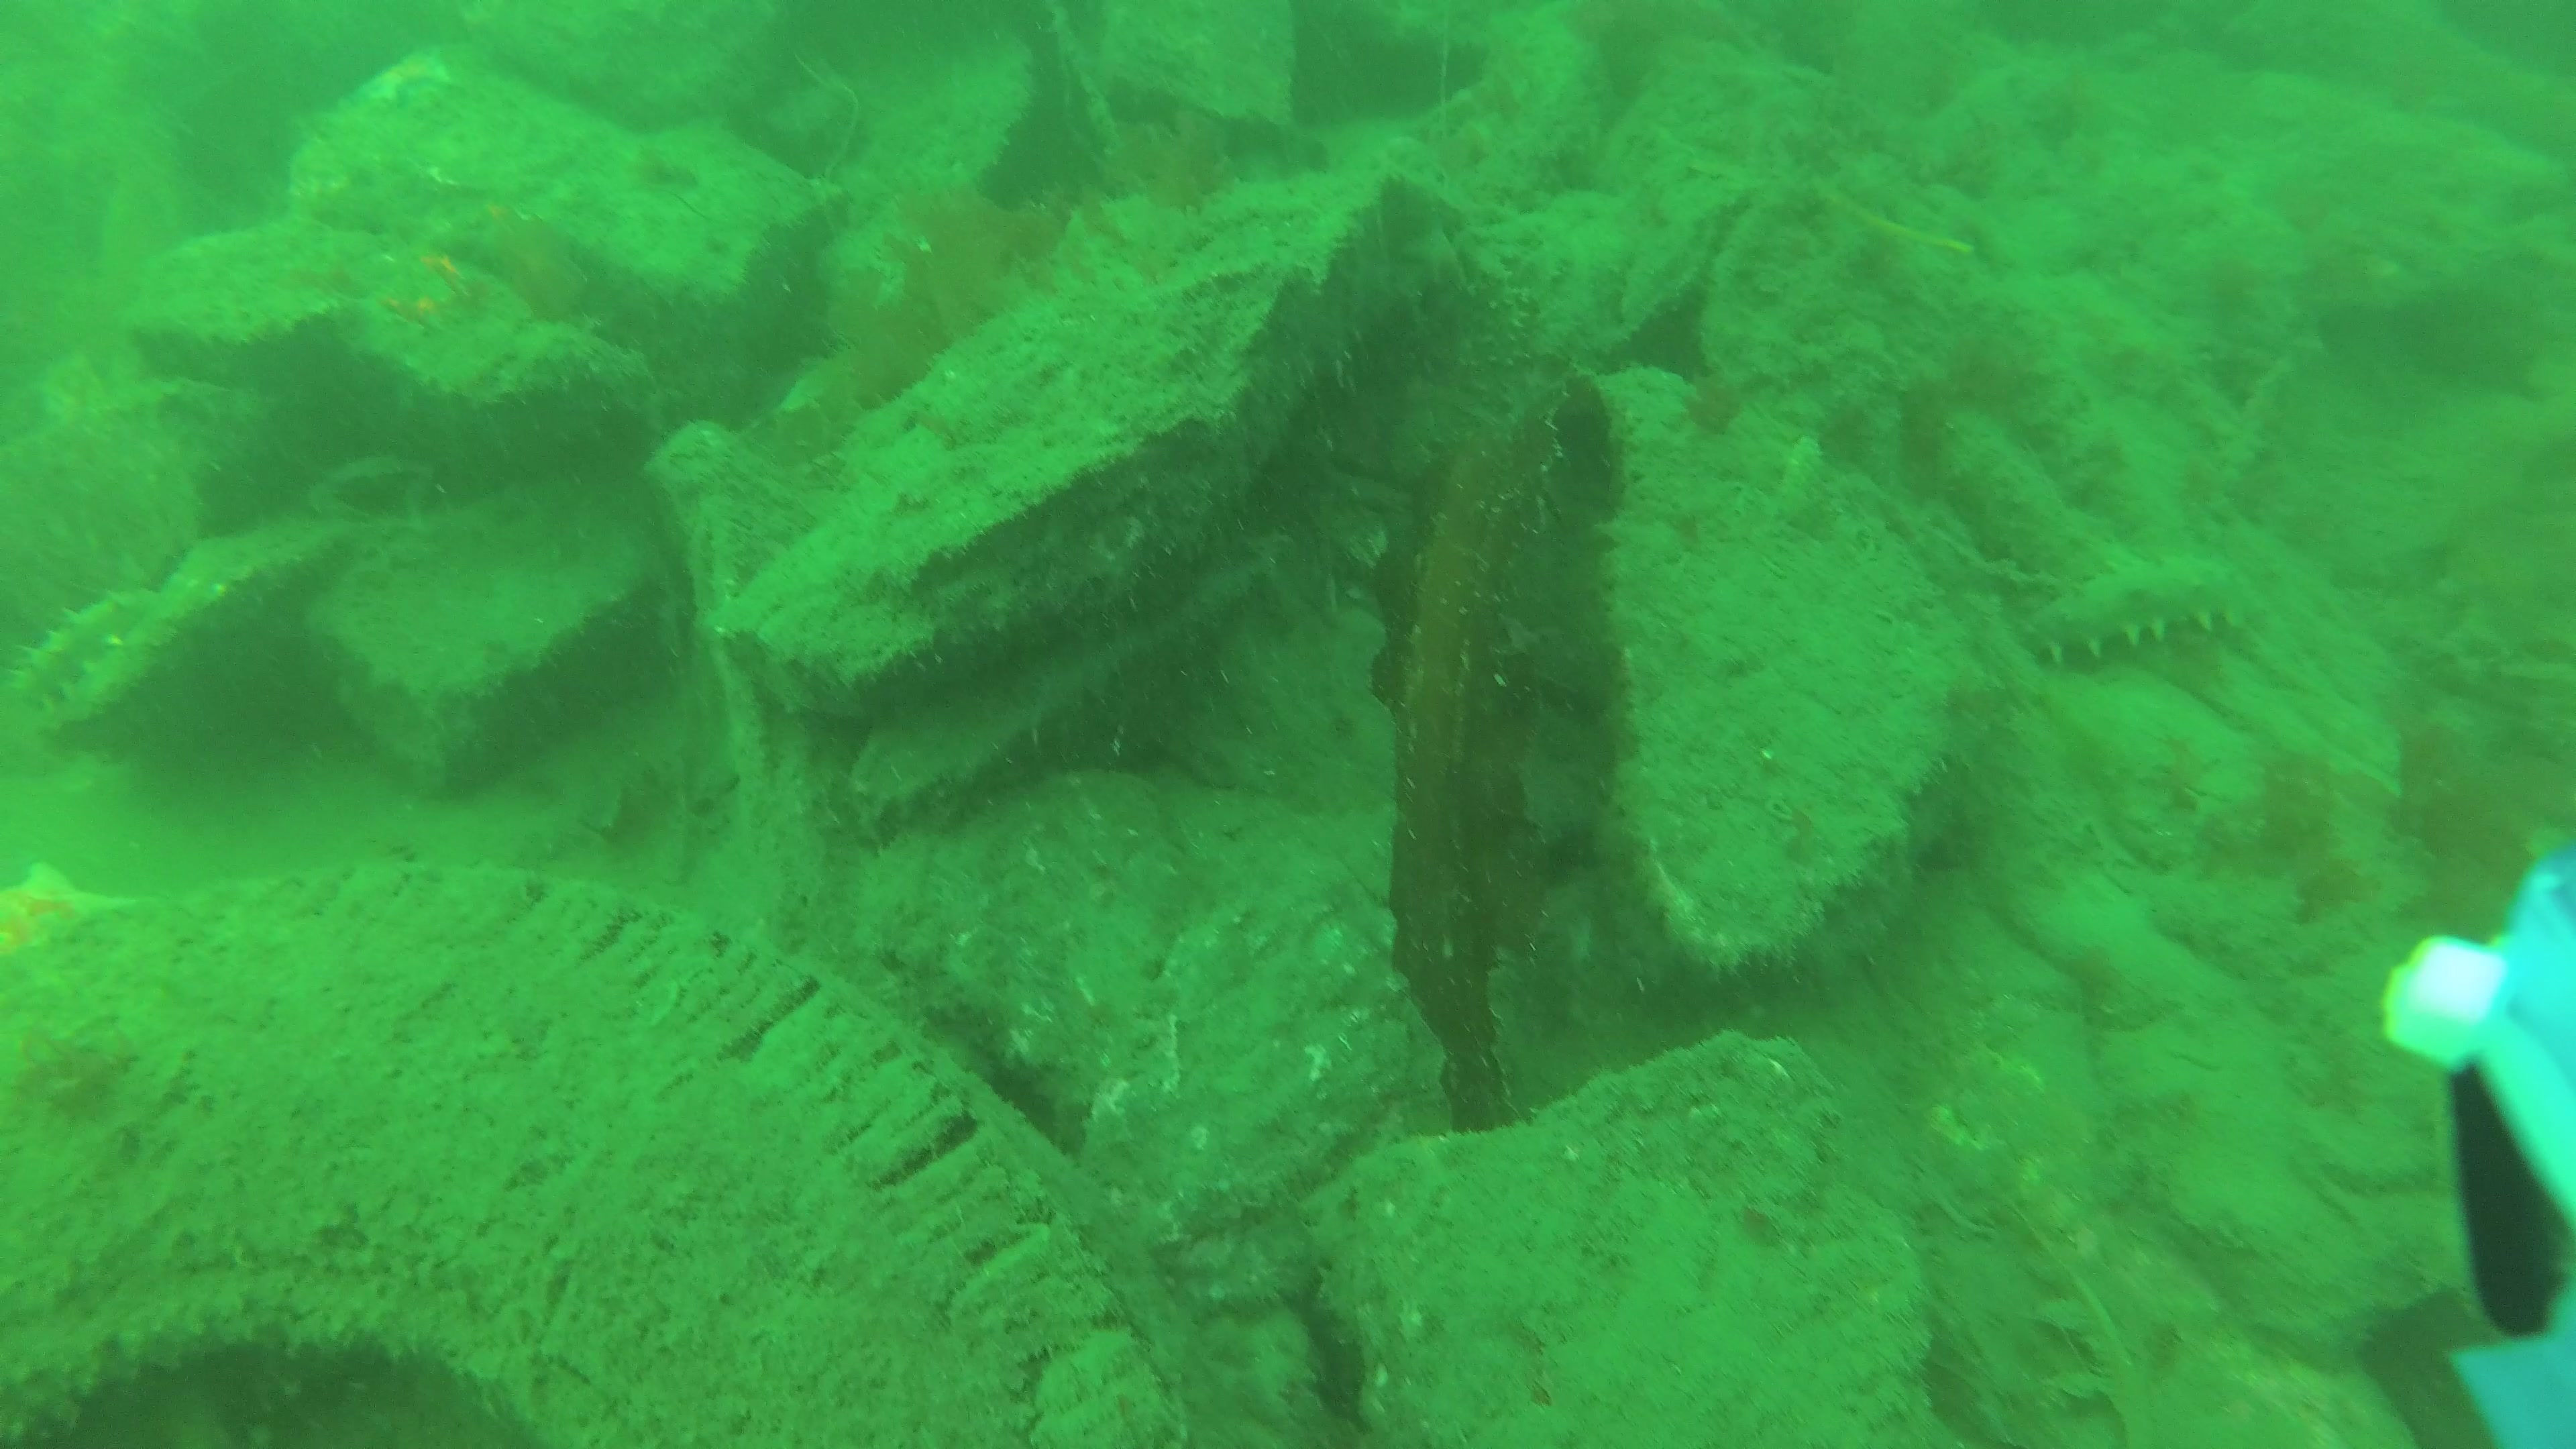holothurian: (2029, 554, 2258, 660), (11, 587, 168, 713)
starfish: (2, 863, 147, 962), (359, 265, 462, 341), (446, 193, 518, 253)
